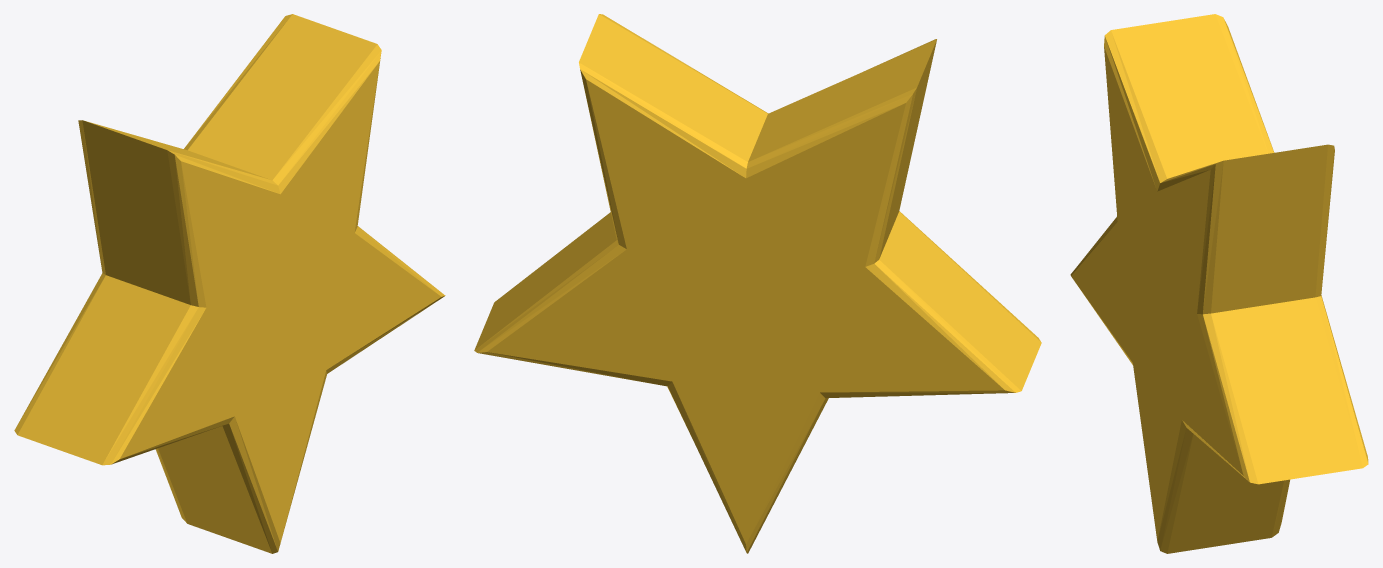
File: star.glb
The picture shows the model from 3 angles, left to right: view 1: azimuth 30°, elevation 25°; view 2: azimuth 150°, elevation 25°; view 3: azimuth 270°, elevation 25°; orthographic projection. The views are drawn at different scales.
Parts seen in each view (by area): view 1: star; view 2: star; view 3: star.
Part boxes in pixels (box(x1,y1,x2,y2)): star: box(14, 14, 445, 553); star: box(474, 14, 1041, 553); star: box(1070, 14, 1368, 553).
Size of the model in its own units: 2.03 by 1.91 by 1.13.
